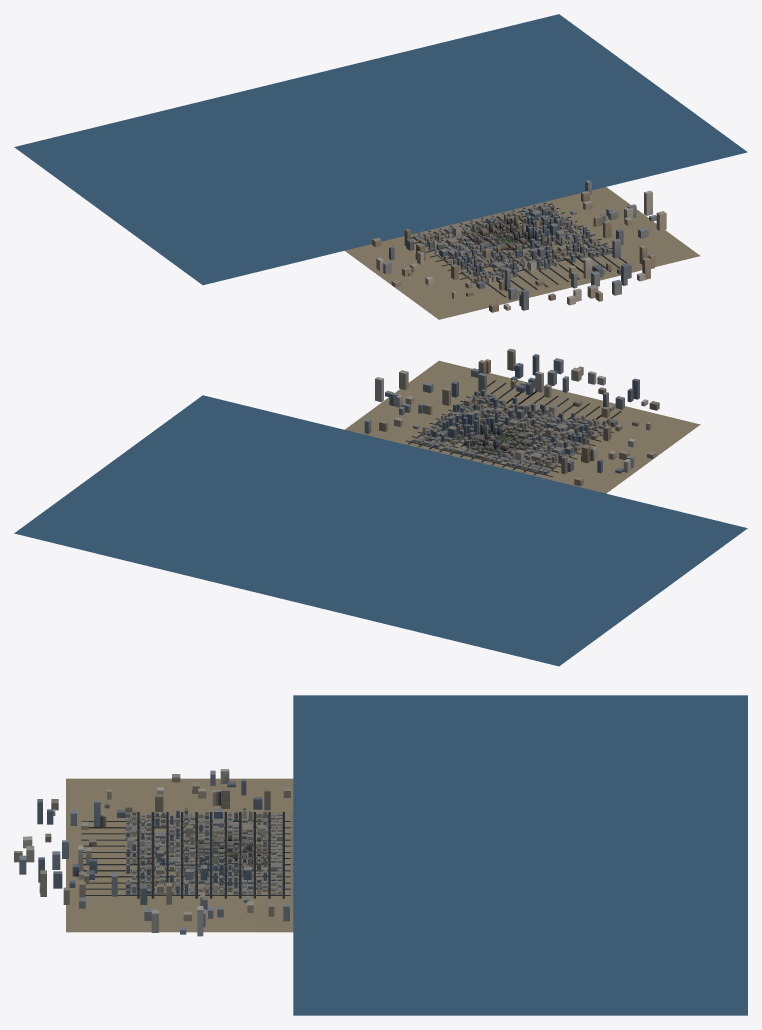
Rendered from city.glb.
3 renders of one model, top to bottom at view 1: azimuth 30°, elevation 25°; view 2: azimuth 150°, elevation 25°; view 3: azimuth 270°, elevation 25°, orthographic. The views are drawn at different scales.
Parts seen in each view (by area): view 1: sea.sea, static.ground_far, buildings.roof, buildings.facade_glass, skyline.facade_4, static.road_far, skyline.facade_1, skyline.facade_2, buildings.facade_4, buildings.facade_5, buildings.facade_1, buildings.facade_2 (+5 smaller); view 2: sea.sea, static.ground_far, buildings.roof, buildings.facade_glass, static.road_far, skyline.facade_4, skyline.facade_1, skyline.facade_5, skyline.facade_2, buildings.facade_4, buildings.facade_1, buildings.facade_0 (+5 smaller); view 3: sea.sea, static.ground_far, buildings.roof, static.road_far, buildings.facade_glass, skyline.facade_4, skyline.facade_5, skyline.facade_1, buildings.facade_4, buildings.facade_0, buildings.facade_1, skyline.facade_2 (+5 smaller).
Part boxes in pixels (box(x1,y1,x2,y2)): sea.sea: box(14, 14, 747, 285); static.ground_far: box(345, 187, 699, 319); buildings.roof: box(413, 203, 610, 283); buildings.facade_glass: box(428, 209, 590, 274); skyline.facade_4: box(383, 180, 656, 300); static.road_far: box(411, 203, 631, 297); skyline.facade_1: box(372, 191, 654, 301); skyline.facade_2: box(376, 190, 652, 310); buildings.facade_4: box(431, 207, 608, 284); buildings.facade_5: box(413, 210, 611, 280); buildings.facade_1: box(417, 206, 602, 281); buildings.facade_2: box(423, 208, 582, 283); sea.sea: box(14, 395, 747, 666); static.ground_far: box(345, 360, 700, 493); buildings.roof: box(414, 389, 610, 471); buildings.facade_glass: box(432, 397, 588, 463); static.road_far: box(405, 380, 621, 476); skyline.facade_4: box(364, 358, 634, 468); skyline.facade_1: box(379, 348, 656, 486); skyline.facade_5: box(451, 354, 639, 473); skyline.facade_2: box(375, 363, 648, 472); buildings.facade_4: box(424, 391, 606, 468); buildings.facade_1: box(417, 397, 611, 473); buildings.facade_0: box(413, 396, 603, 472); sea.sea: box(293, 695, 747, 1015); static.ground_far: box(66, 778, 293, 932); buildings.roof: box(125, 806, 282, 893); static.road_far: box(81, 812, 293, 898); buildings.facade_glass: box(125, 808, 267, 894); skyline.facade_4: box(19, 770, 289, 934); skyline.facade_5: box(37, 779, 262, 904); skyline.facade_1: box(14, 774, 290, 916); buildings.facade_4: box(125, 812, 282, 894); buildings.facade_0: box(125, 812, 281, 894); buildings.facade_1: box(125, 806, 282, 894); skyline.facade_2: box(23, 769, 229, 936).
Bounding box in the file's own units: 5000 × 193 × 4844.
